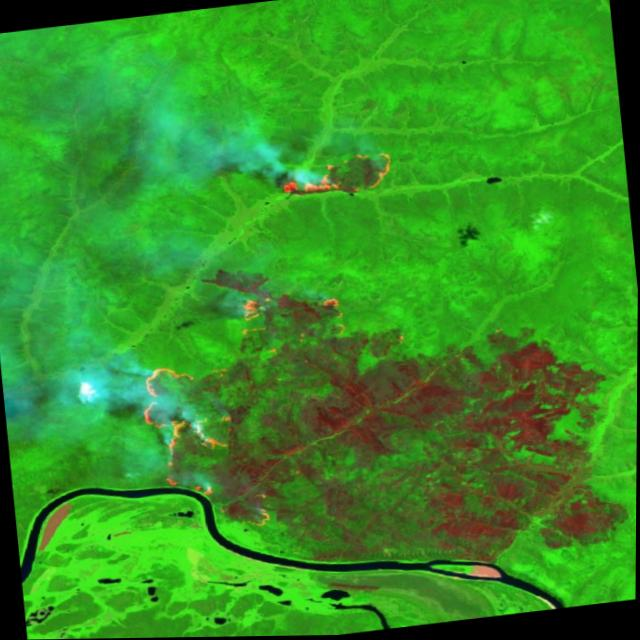fire: (111, 267, 385, 543), (271, 144, 398, 218)
